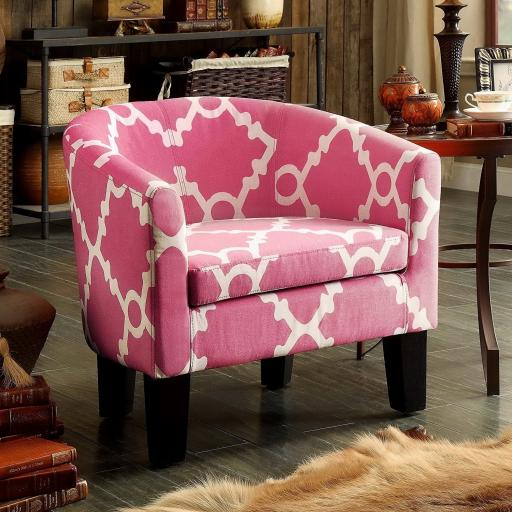chair: (42, 82, 448, 436)
